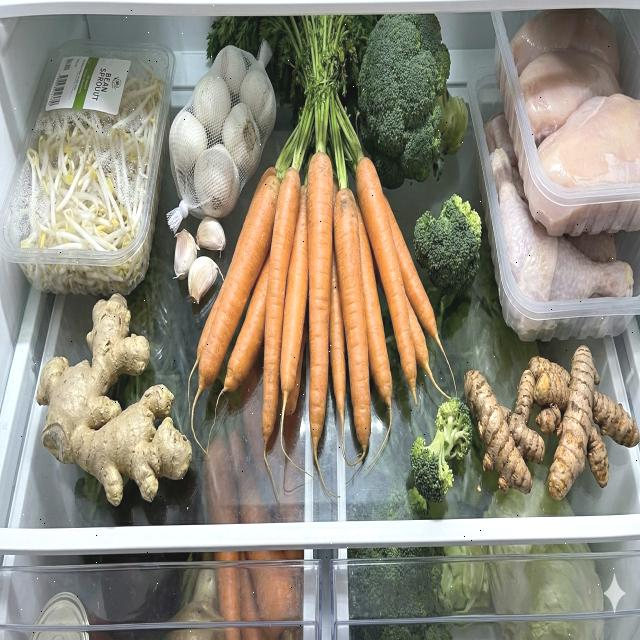bean_sprouts: (19, 55, 170, 293)
brocolli: (356, 13, 471, 190), (413, 195, 483, 296), (410, 397, 472, 503)
carrot: (188, 152, 458, 499)
chicken: (483, 110, 635, 340), (510, 8, 640, 236)
garlic: (169, 44, 278, 306)
ginger: (36, 292, 194, 508)
turmeric: (464, 344, 640, 502)
